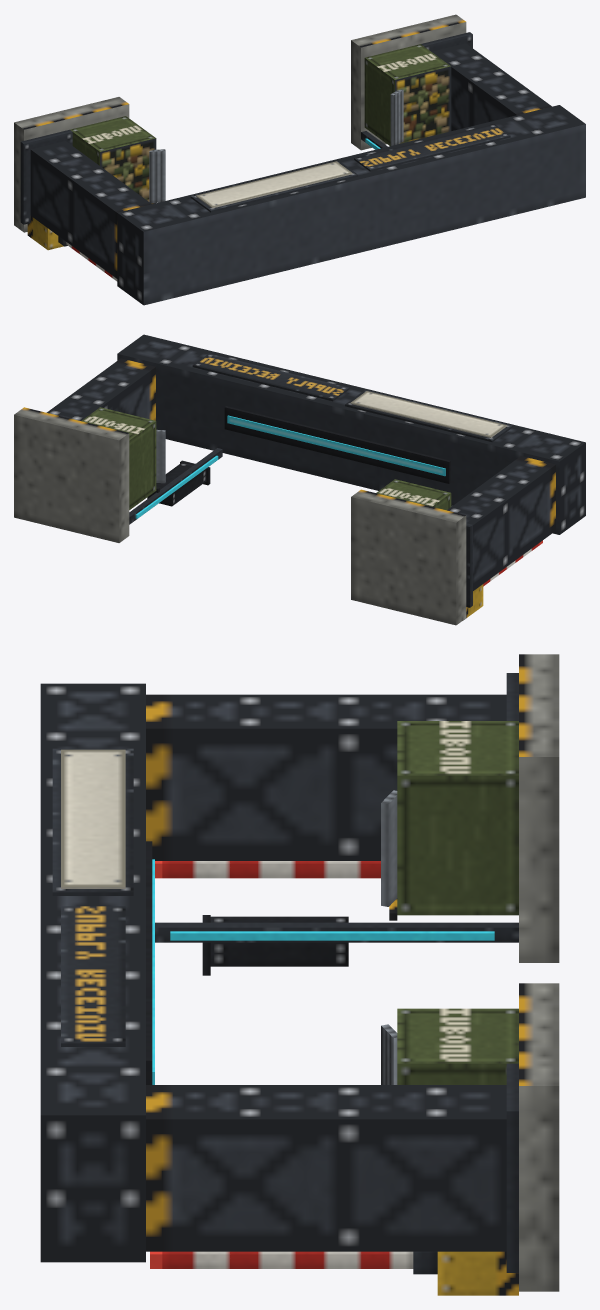
File: supply_receiving_gate.obj
3 views of the same model, one above another, from view 1: azimuth 30°, elevation 25°; view 2: azimuth 150°, elevation 25°; view 3: azimuth 270°, elevation 25° (orthographic). The views are drawn at different scales.
Visible parts, largest first — view 1: supply_receiving_gate_Beam, supply_receiving_gate_Column_0, supply_receiving_gate_Bin_1, supply_receiving_gate_Column_1, supply_receiving_gate_Bin_0, supply_receiving_gate_Footing_1, supply_receiving_gate_Footing_0, supply_receiving_gate_Title_1, supply_receiving_gate_Nameplate_1, supply_receiving_gate_Column_plate_0, supply_receiving_gate_Nameplate_frame_1, supply_receiving_gate_Tip_chute_0 (+3 smaller); view 2: supply_receiving_gate_Beam, supply_receiving_gate_Footing_0, supply_receiving_gate_Footing_1, supply_receiving_gate_Column_0, supply_receiving_gate_Column_1, supply_receiving_gate_Scanner_housing, supply_receiving_gate_Bin_1, supply_receiving_gate_Title_1, supply_receiving_gate_Nameplate_1, supply_receiving_gate_Scanner_bar, supply_receiving_gate_Bin_0, supply_receiving_gate_Nameplate_frame_1 (+5 smaller); view 3: supply_receiving_gate_Column_1, supply_receiving_gate_Column_0, supply_receiving_gate_Beam, supply_receiving_gate_Bin_0, supply_receiving_gate_Footing_0, supply_receiving_gate_Footing_1, supply_receiving_gate_Title_1, supply_receiving_gate_Bin_1, supply_receiving_gate_Nameplate_1, supply_receiving_gate_Scanner_post_0, supply_receiving_gate_Barrier_arm_1, supply_receiving_gate_Signal_head_0 (+8 smaller).
Boxes of the visible parts, x1,y1,x2,y2 form: supply_receiving_gate_Beam: (117,105,585,305); supply_receiving_gate_Column_0: (30,141,151,278); supply_receiving_gate_Bin_1: (364,44,451,145); supply_receiving_gate_Column_1: (431,43,551,130); supply_receiving_gate_Bin_0: (70,116,156,204); supply_receiving_gate_Footing_1: (351,14,466,150); supply_receiving_gate_Footing_0: (14,97,129,232); supply_receiving_gate_Title_1: (354,124,510,171); supply_receiving_gate_Nameplate_1: (196,161,352,208); supply_receiving_gate_Column_plate_0: (20,129,72,224); supply_receiving_gate_Nameplate_frame_1: (190,160,358,212); supply_receiving_gate_Tip_chute_0: (149,149,165,202); supply_receiving_gate_Beam: (117,334,585,534); supply_receiving_gate_Footing_0: (351,489,466,625); supply_receiving_gate_Footing_1: (14,407,129,542); supply_receiving_gate_Column_0: (447,456,555,590); supply_receiving_gate_Column_1: (46,358,155,420); supply_receiving_gate_Scanner_housing: (224,406,450,483); supply_receiving_gate_Bin_1: (81,407,156,509); supply_receiving_gate_Title_1: (192,353,349,401); supply_receiving_gate_Nameplate_1: (350,391,507,437); supply_receiving_gate_Scanner_bar: (227,415,445,476); supply_receiving_gate_Bin_0: (376,479,451,510); supply_receiving_gate_Nameplate_frame_1: (345,389,512,442); supply_receiving_gate_Column_1: (146,1085,506,1251); supply_receiving_gate_Column_0: (146,694,506,860); supply_receiving_gate_Beam: (40,683,145,1262); supply_receiving_gate_Bin_0: (397,721,518,915); supply_receiving_gate_Footing_0: (519,654,559,962); supply_receiving_gate_Footing_1: (519,983,559,1291); supply_receiving_gate_Title_1: (61,906,125,1046); supply_receiving_gate_Bin_1: (397,1008,518,1084); supply_receiving_gate_Nameplate_1: (61,749,125,888); supply_receiving_gate_Scanner_post_0: (155,922,518,942); supply_receiving_gate_Barrier_arm_1: (162,1251,413,1268); supply_receiving_gate_Signal_head_0: (210,916,348,966).
Bounding box in the file's own units: 3 × 0.6914 × 1.5.
